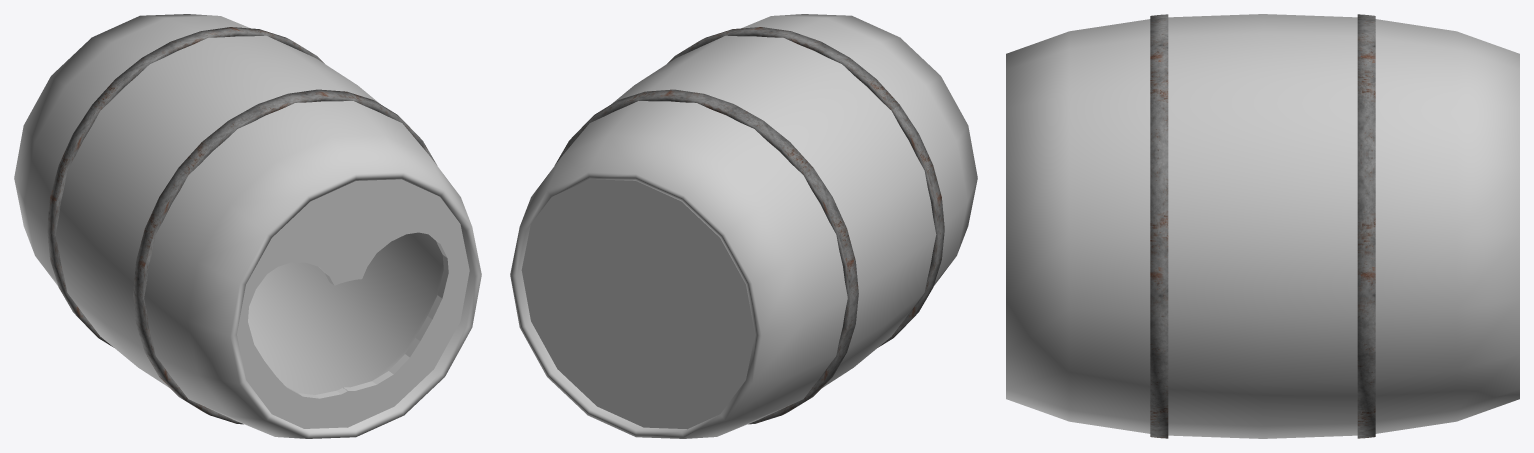
File: Barrel.obj
3 views of the same model, side by side, from view 1: azimuth 30°, elevation 25°; view 2: azimuth 150°, elevation 25°; view 3: azimuth 270°, elevation 25° (orthographic). The views are drawn at different scales.
Parts seen in each view (by area): view 1: Barrel, Barrel_Holy_Cover_Cylinder.001_Cylinder.002, Barrel_Metal_Cylinder.000; view 2: Barrel, Barrel_Cover_Cylinder.002, Barrel_Metal_Cylinder.000; view 3: Barrel, Barrel_Metal_Cylinder.000.
Boxes of the visible parts, x1=… form: Barrel: x1=14, y1=14, x2=481, y2=438; Barrel_Holy_Cover_Cylinder.001_Cylinder.002: x1=237, y1=179, x2=469, y2=428; Barrel_Metal_Cylinder.000: x1=47, y1=27, x2=437, y2=424; Barrel: x1=510, y1=14, x2=977, y2=438; Barrel_Cover_Cylinder.002: x1=521, y1=179, x2=754, y2=429; Barrel_Metal_Cylinder.000: x1=554, y1=27, x2=944, y2=424; Barrel: x1=1006, y1=14, x2=1519, y2=438; Barrel_Metal_Cylinder.000: x1=1150, y1=14, x2=1375, y2=438.
Size of the model in its own units: 2.48 by 2.48 by 3.
